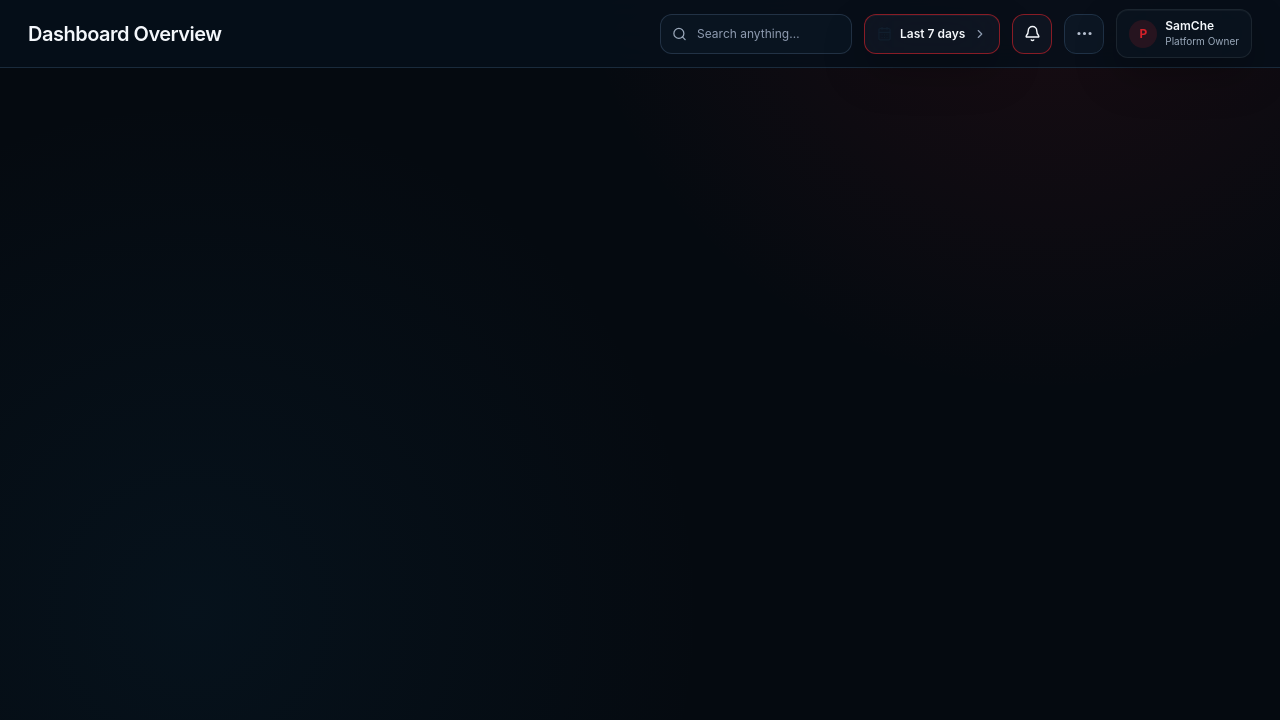
Test case: Topbar global navigation search › shows an unread owner plan request in the shared notification center
Click the button named "Notifications" at (1032, 34), box [1012, 14, 1052, 54]
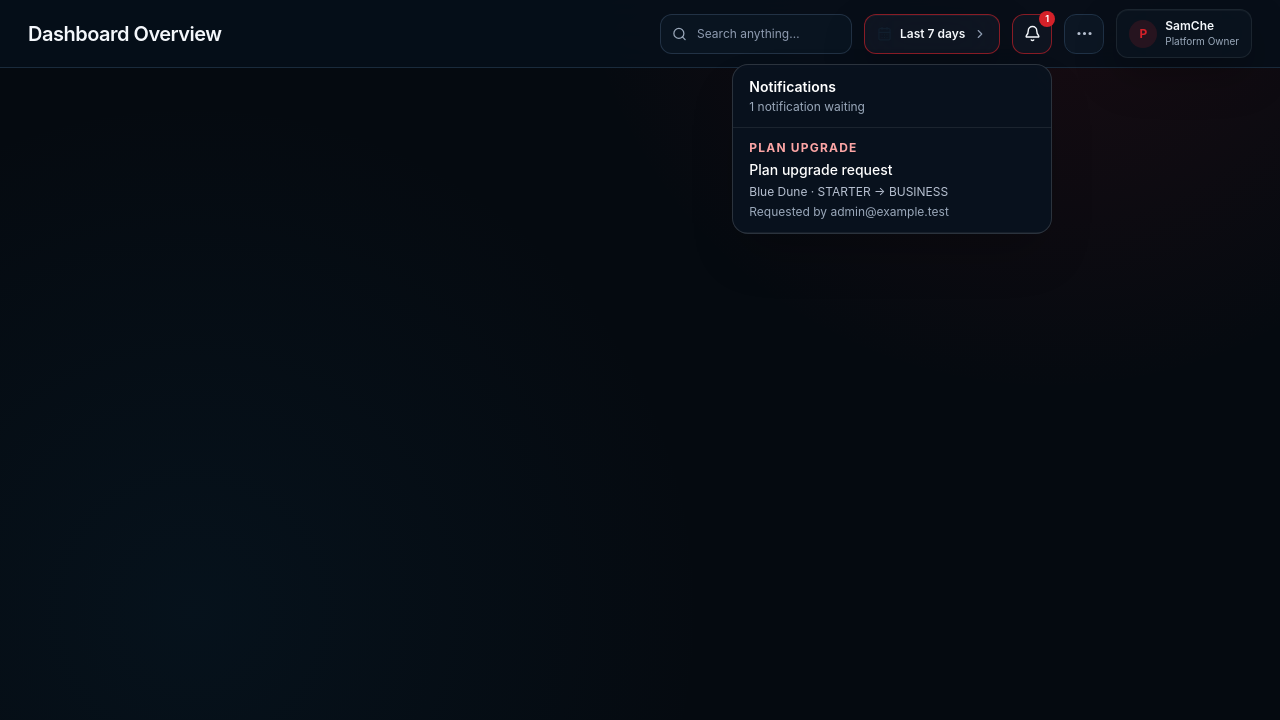
Check: the text "1 notification waiting" is shown, box [749, 98, 865, 114]
Check: the text "Plan upgrade request" is shown
Check: the text "Blue Dune · STARTER → BUSINESS" is shown, box [749, 184, 948, 198]
Click the text "Plan upgrade request" at (821, 169), box [749, 160, 893, 178]
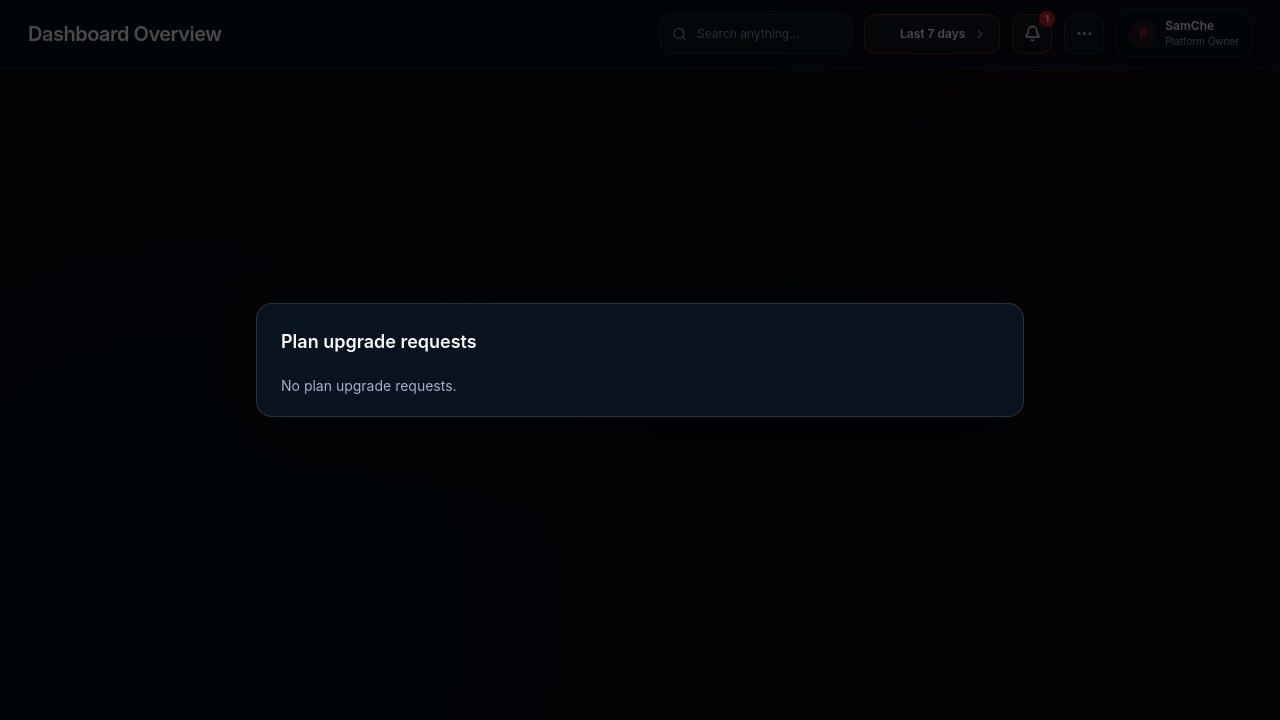
Check: the dialog "Plan upgrade requests" is shown, box [256, 303, 1024, 417]
